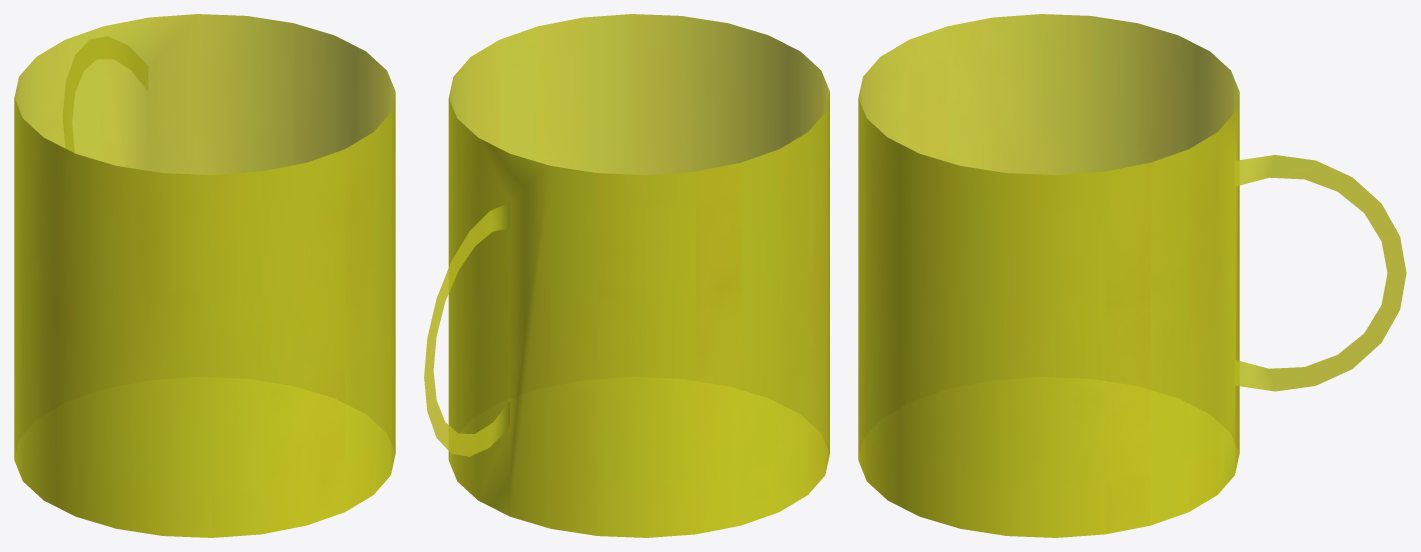
3 views of the same model, side by side, from view 1: azimuth 30°, elevation 25°; view 2: azimuth 150°, elevation 25°; view 3: azimuth 270°, elevation 25° (orthographic).
Visible parts, largest first — view 1: mesh1_mesh1-geometry; view 2: mesh1_mesh1-geometry; view 3: mesh1_mesh1-geometry.
Boxes of the visible parts, left/top/right/bottom form: mesh1_mesh1-geometry: left=14, top=14, right=395, bottom=537; mesh1_mesh1-geometry: left=424, top=14, right=829, bottom=537; mesh1_mesh1-geometry: left=858, top=14, right=1406, bottom=537.
Bounding box in the file's own units: 0.4895 × 0.5144 × 0.7041.
Materials: 1 (1 with a texture image).
